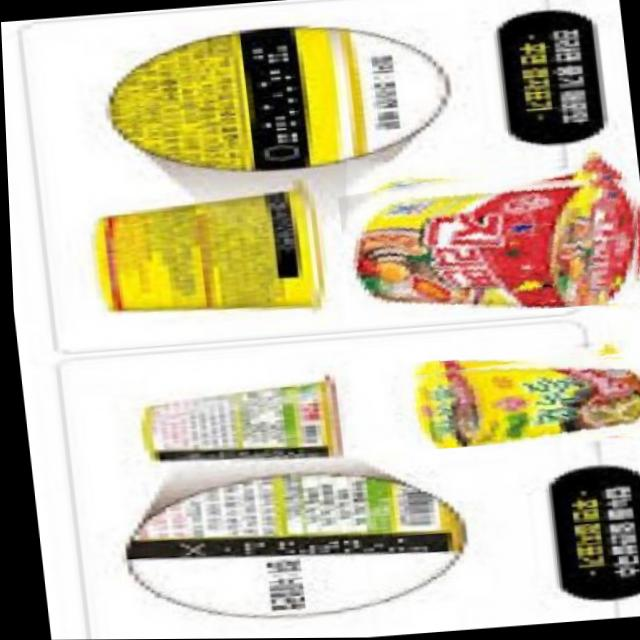Miscellaneous: (331, 147, 640, 324), (390, 345, 640, 452)
